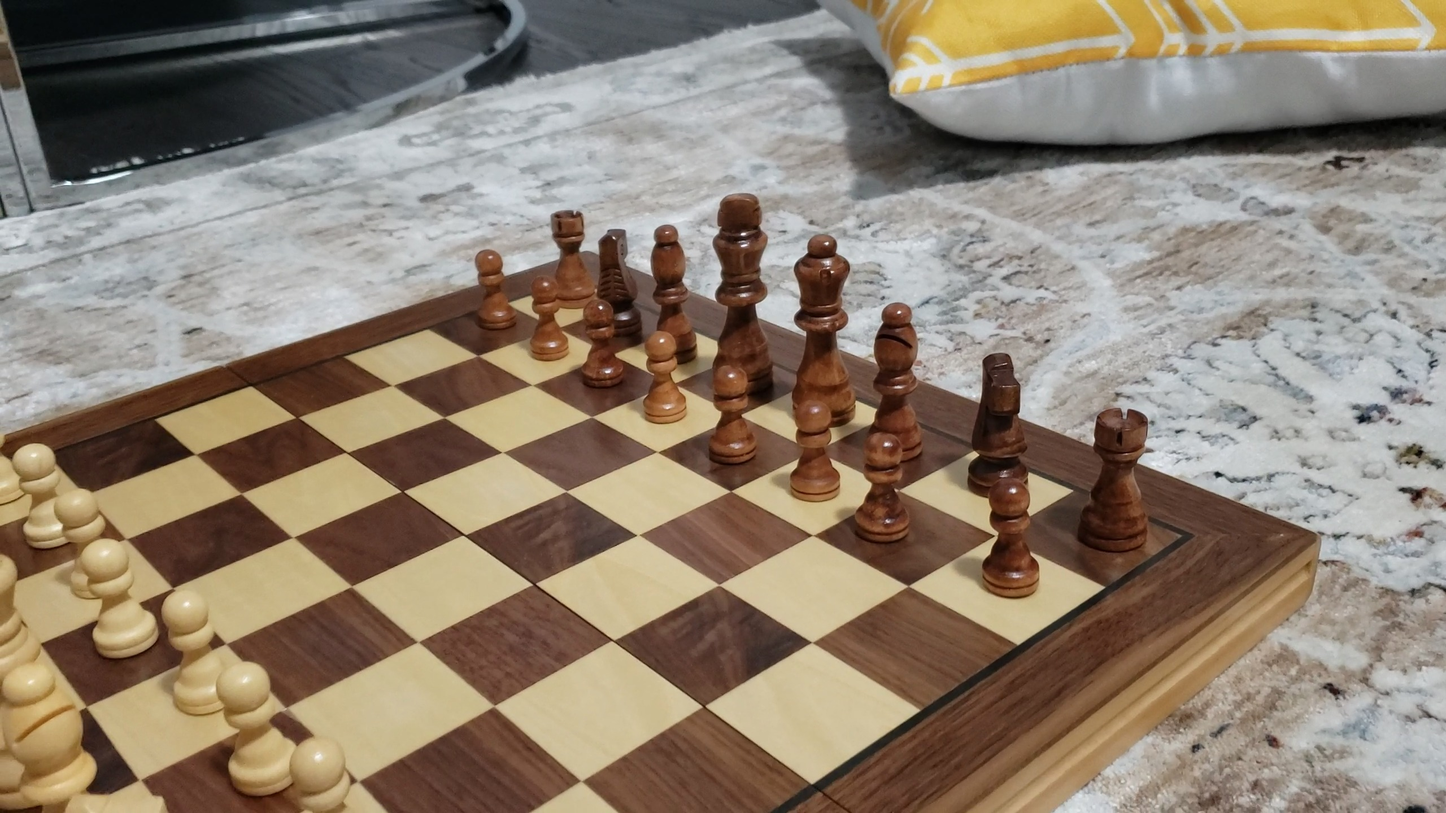black-bishop: (867, 302, 920, 461), (646, 222, 699, 362)
black-king: (709, 186, 776, 393)
black-knight: (971, 350, 1027, 489), (594, 216, 647, 338)
black-pawn: (974, 477, 1052, 616), (855, 429, 909, 541), (789, 396, 836, 499), (708, 362, 753, 469), (581, 293, 624, 387), (642, 325, 684, 421), (475, 247, 516, 330), (529, 273, 567, 360)
black-queen: (789, 231, 848, 430)
black-rook: (1079, 404, 1151, 551), (547, 206, 595, 306)
white-bishop: (0, 660, 103, 807)
white-pawn: (81, 531, 160, 665), (222, 661, 292, 798), (165, 593, 237, 722), (1, 438, 79, 551)
